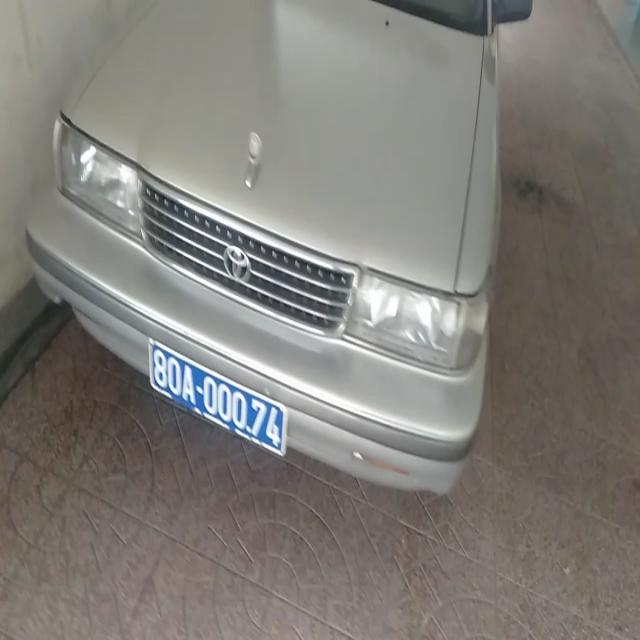bien_xanh: (148, 336, 283, 468)
